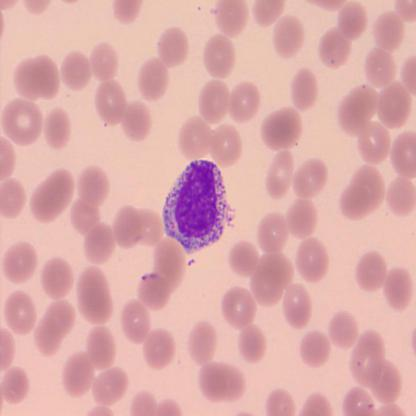Metamyelocyte: (161, 156, 237, 256)
